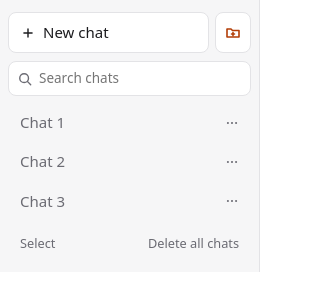
select mode › a rename in progress ends when selecting starts
The width and height of the screenshot is (320, 295).
Double-click the button with class "title" showing "Chat 1" at (118, 123), box [20, 111, 217, 134]
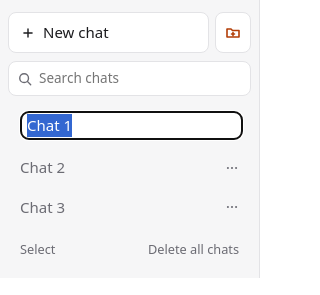
expect the field with class "rename" is shown: met, box [20, 111, 243, 140]
Click the button "Select" at (38, 250), box [8, 234, 67, 266]
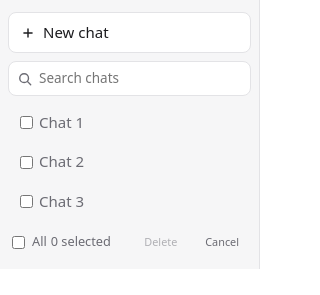
expect the number of checkboxes with class "tick" is 3: met, box [20, 116, 33, 129]; [20, 156, 33, 168]; [20, 195, 33, 208]
